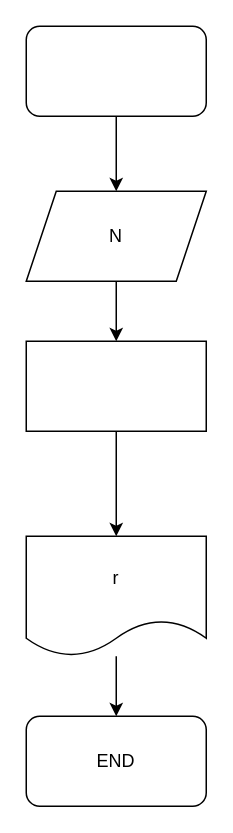
The diagram is 233 pixels wide and 833 high, and some of its shapes have lost their labels. Each missing label, with the centre of its shape:
"r = randow (1,N)" goes at (115,385).
"START" goes at (115,70).
